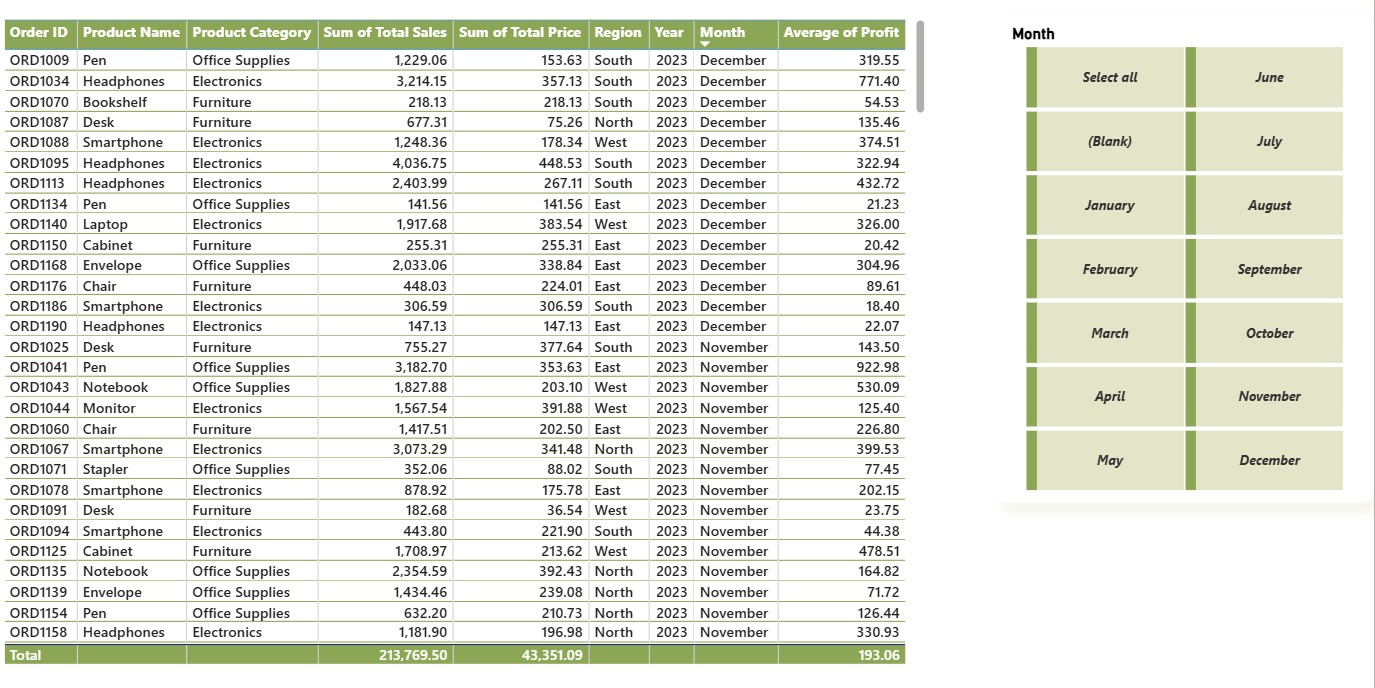

The page's visual inventory and layout, read from the dashboard file:
{"tool":"powerbi","page":{"name":"Report","canvas":[1280,720],"ordinal":1},"visuals":[{"type":"tableEx","fields":{"Values":["Sheet1.Order ID","Sheet1.Product Name","Sheet1.Product Category","Sum(Sheet1.Total Sales)","Sum(Sheet1.Total Price)","Sheet1.Region","Sheet1.Order Date.Variation.Date Hierarchy.Year","Sheet1.Order Date.Variation.Date Hierarchy.Month","Avg(Sheet1.Profit)"]},"box":[0,0,868,609],"z":0},{"type":"slicer","fields":{"Values":["Sheet1.Order Date.Variation.Date Hierarchy.Month"]},"box":[925.9,34.6,354.2,455],"z":1000}]}

Visuals, with their boxes on the page's 1280x720 design canvas (x1, y1, x2, y2). These are canvas units, not pixel positions in the 1375x688 screenshot, which may show the page scaled, cropped or inside an application window:
tableEx - Sheet1.Order ID x Sheet1.Product Name: box(0, 0, 868, 609)
slicer - Sheet1.Order Date.Variation.Date Hierarchy.Month: box(926, 35, 1280, 490)
